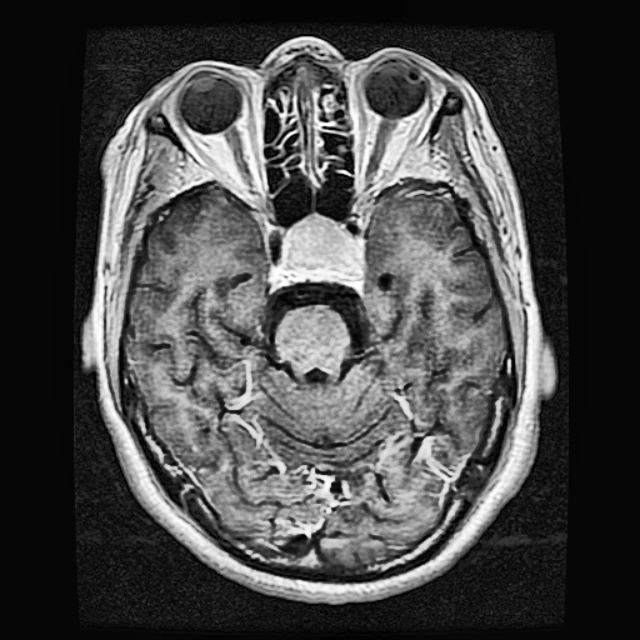Pituitary: (274, 213, 362, 290)
